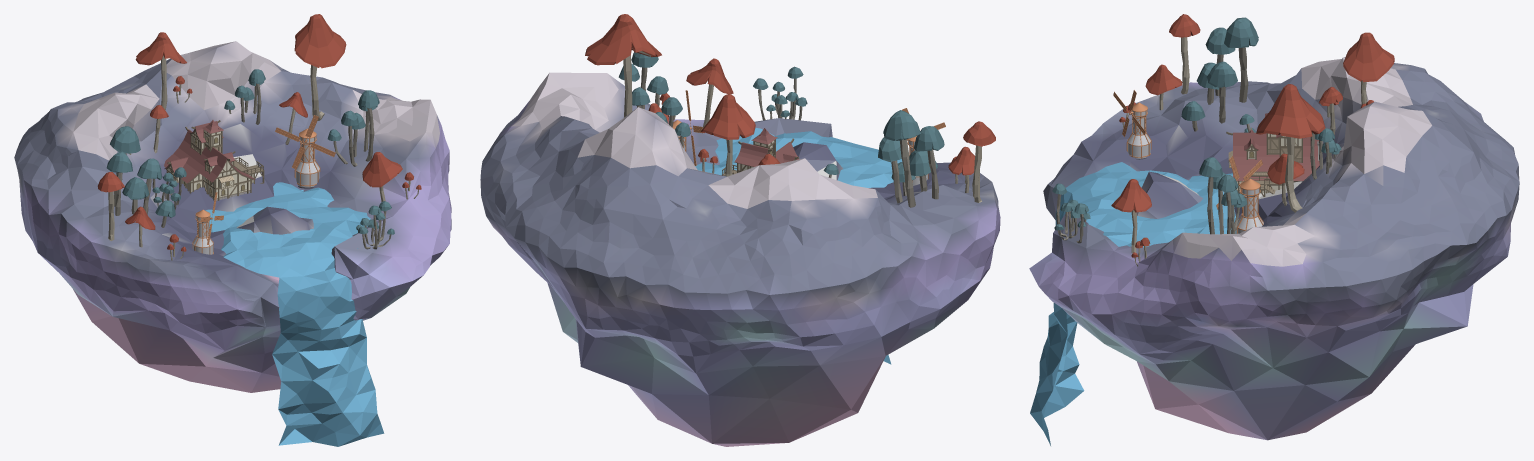
Rendered from magicIsland.glb.
3 views of the same model, side by side, from view 1: azimuth 30°, elevation 25°; view 2: azimuth 150°, elevation 25°; view 3: azimuth 270°, elevation 25° (orthographic). The views are drawn at different scales.
Parts seen in each view (by area): view 1: Icosphere, Plane, house.001, mush1.001, moosh.001, mush1.002, wind.001, moosh.005, moosh.004, mush, mush1.003, wind (+4 smaller); view 2: Icosphere, Plane, mush1.001, moosh.001, moosh.005, house.001, mush1.002, mush, moosh.004, MASH.001, mush1.003, moosh.003; view 3: Icosphere, Plane, mush1.001, house.001, moosh.001, mush1.002, moosh.005, wind, wind.001, mush, moosh.004, MASH.001 (+3 smaller).
Part boxes in pixels (x1,y1,x2,y2): Icosphere: [14, 41, 451, 392]; Plane: [205, 182, 384, 446]; house.001: [164, 120, 264, 200]; mush1.001: [106, 126, 175, 227]; moosh.001: [294, 14, 346, 120]; mush1.002: [327, 90, 379, 166]; wind.001: [275, 115, 335, 188]; moosh.005: [135, 32, 186, 109]; moosh.004: [362, 152, 402, 201]; mush: [356, 201, 394, 249]; mush1.003: [224, 69, 265, 124]; wind: [192, 192, 223, 254]; Icosphere: [480, 72, 1000, 446]; Plane: [695, 127, 902, 364]; mush1.001: [878, 110, 944, 207]; moosh.001: [585, 14, 661, 117]; moosh.005: [701, 94, 755, 176]; house.001: [722, 128, 799, 175]; mush1.002: [618, 52, 668, 109]; mush: [753, 66, 807, 120]; moosh.004: [686, 58, 733, 128]; MASH.001: [963, 121, 995, 202]; mush1.003: [655, 97, 690, 147]; moosh.003: [948, 146, 975, 193]; Icosphere: [1029, 57, 1519, 440]; Plane: [1030, 162, 1238, 445]; mush1.001: [1181, 17, 1258, 131]; house.001: [1226, 113, 1322, 196]; moosh.001: [1256, 84, 1325, 212]; mush1.002: [1199, 157, 1247, 234]; moosh.005: [1343, 32, 1394, 104]; wind: [1113, 90, 1151, 159]; wind.001: [1216, 156, 1263, 233]; mush: [1052, 183, 1090, 243]; moosh.004: [1111, 179, 1151, 253]; MASH.001: [1169, 14, 1200, 94].
Bounding box in the file's own units: 19.38 × 16.05 × 18.65.
40 materials, 5 textured.
